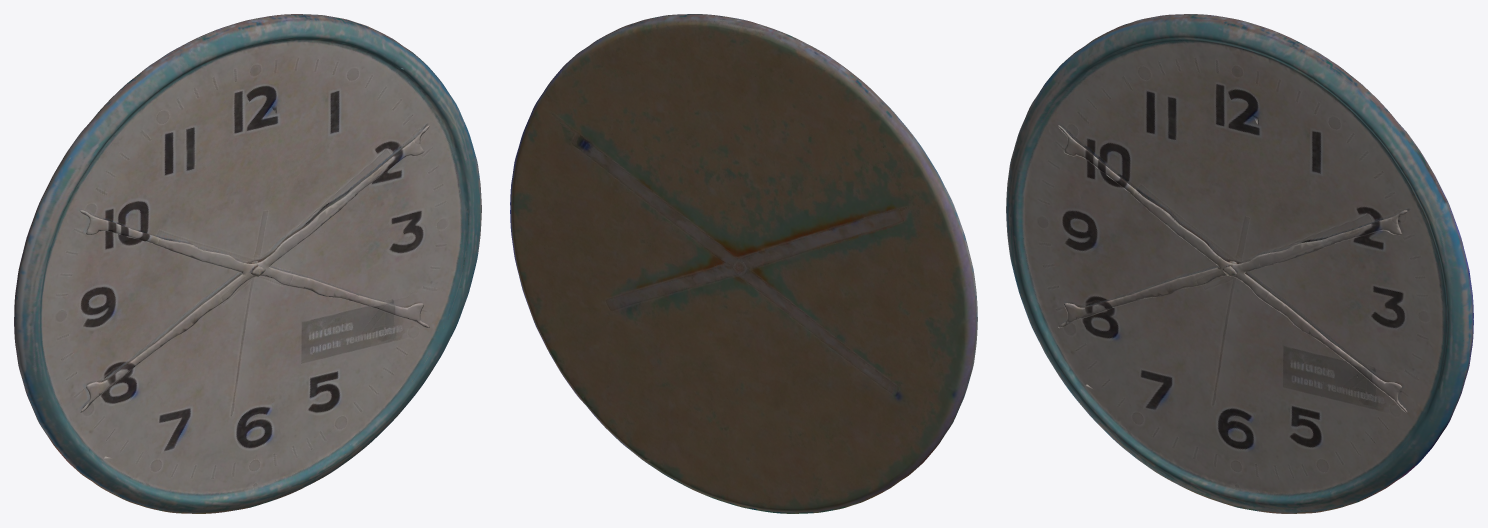
3 views of the same model, side by side, from view 1: azimuth 30°, elevation 25°; view 2: azimuth 150°, elevation 25°; view 3: azimuth 330°, elevation 25° (orthographic).
Parts seen in each view (by area): view 1: file1; view 2: file1; view 3: file1.
Part boxes in pixels (x1,y1,x2,y2): file1: (14,14,481,513); file1: (510,14,977,513); file1: (1006,14,1473,513).
Size of the model in its own units: 2 by 2 by 0.1145.
Materials: 1 (1 with a texture image).
